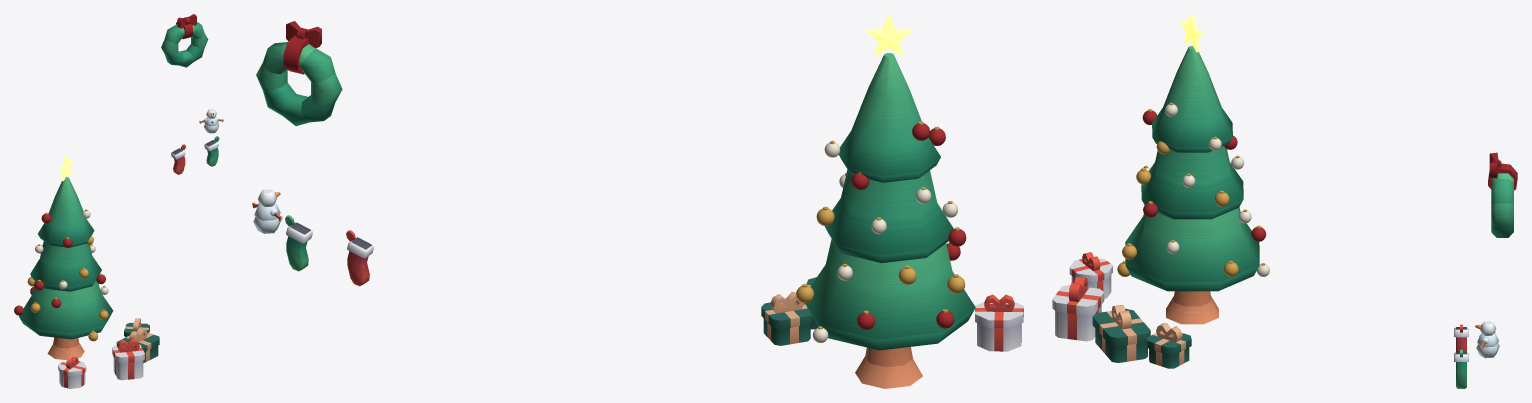
The model's file is xmas.glb.
3 views of the same model, side by side, from view 1: azimuth 30°, elevation 25°; view 2: azimuth 150°, elevation 25°; view 3: azimuth 270°, elevation 25° (orthographic). The views are drawn at different scales.
Visible parts, largest first — view 1: Christmas; view 2: Christmas; view 3: Christmas.
Boxes of the visible parts, x1,y1,x2,y2 form: Christmas: (14,14,223,388); Christmas: (252,14,1023,388); Christmas: (1052,14,1517,388).
Size of the model in its own units: 5.14 by 3.48 by 4.6.
Materials: 14 (9 with a texture image).
